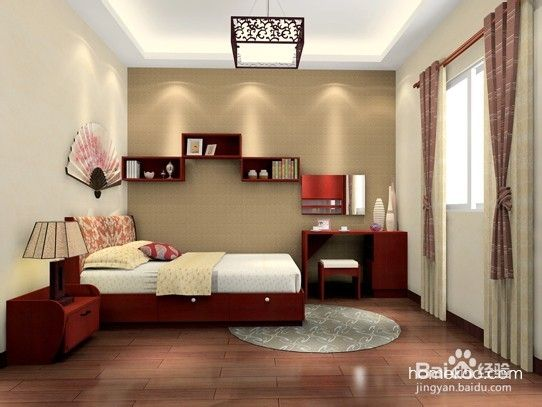床: (78, 245, 303, 332)
枕头: (90, 239, 184, 270)
灯: (19, 218, 83, 302), (228, 8, 309, 70)
